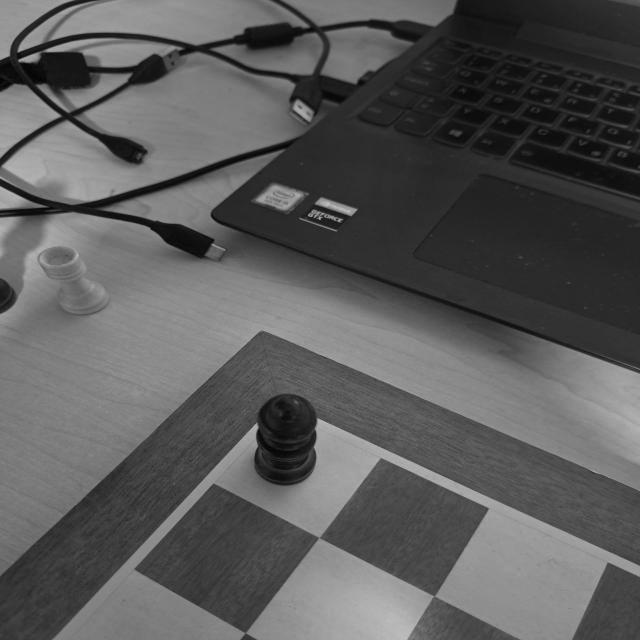chess-table-corners: (210, 393, 370, 456)
